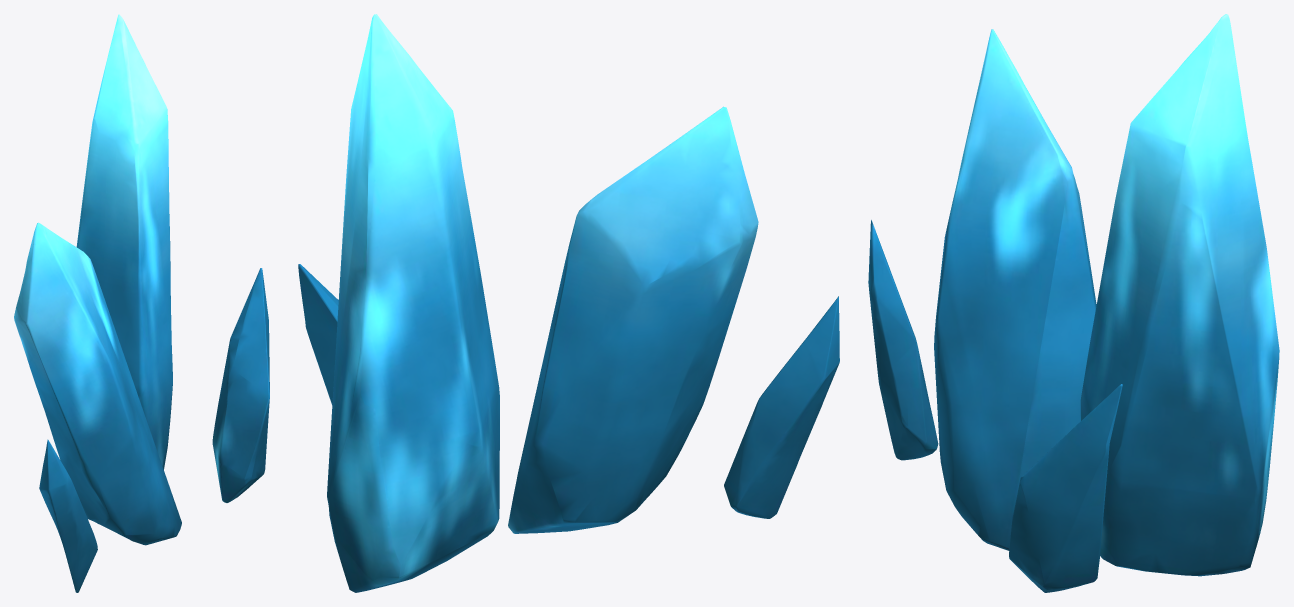
Rendered from k_core_w.glb.
3 renders of one model, left to right at view 1: azimuth 30°, elevation 25°; view 2: azimuth 150°, elevation 25°; view 3: azimuth 270°, elevation 25°, orthographic. The views are drawn at different scales.
Visible parts, largest first — view 1: k_core_w; view 2: k_core_w; view 3: k_core_w.
Boxes of the visible parts, left/top/right/bottom form: k_core_w: left=14, top=14, right=269, bottom=592; k_core_w: left=298, top=14, right=839, bottom=592; k_core_w: left=868, top=14, right=1279, bottom=592.
Bounding box in the file's own units: 1.31 × 1.77 × 1.18.
1 material, 1 textured.
